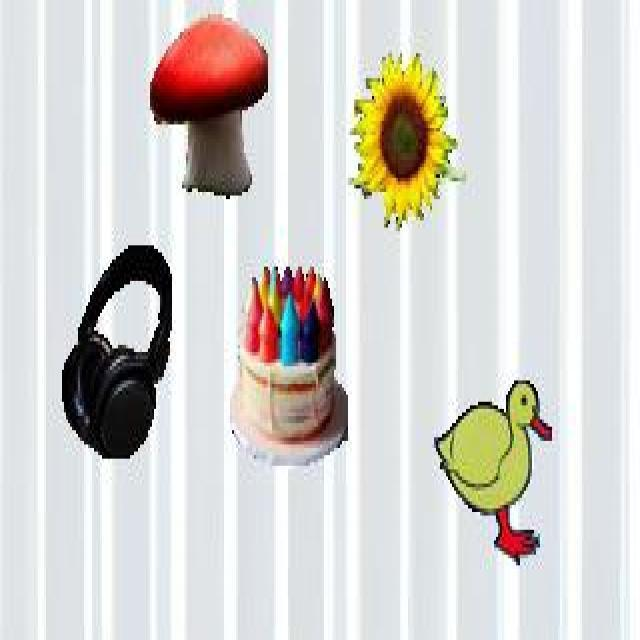Other Objects: (62, 241, 174, 459), (148, 13, 270, 200), (433, 380, 552, 566)
